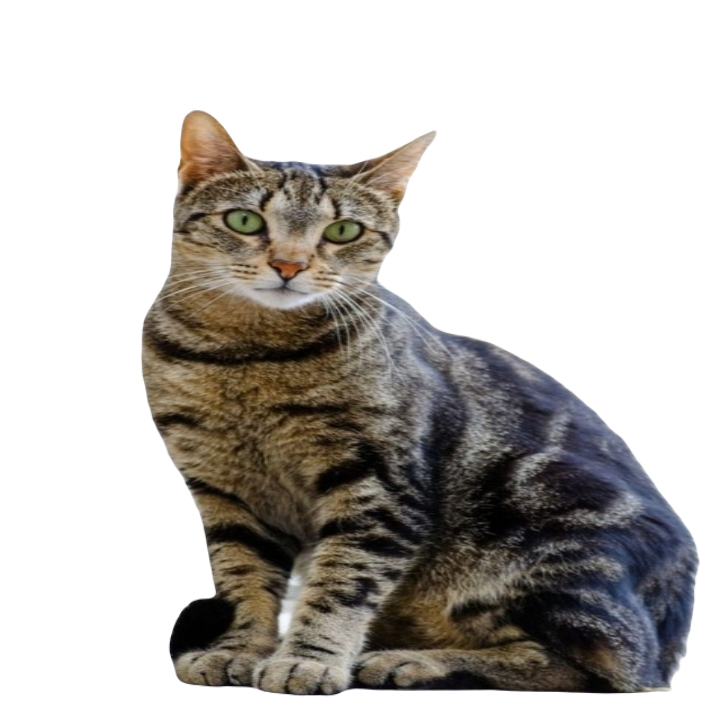Cat: (133, 99, 700, 695)
